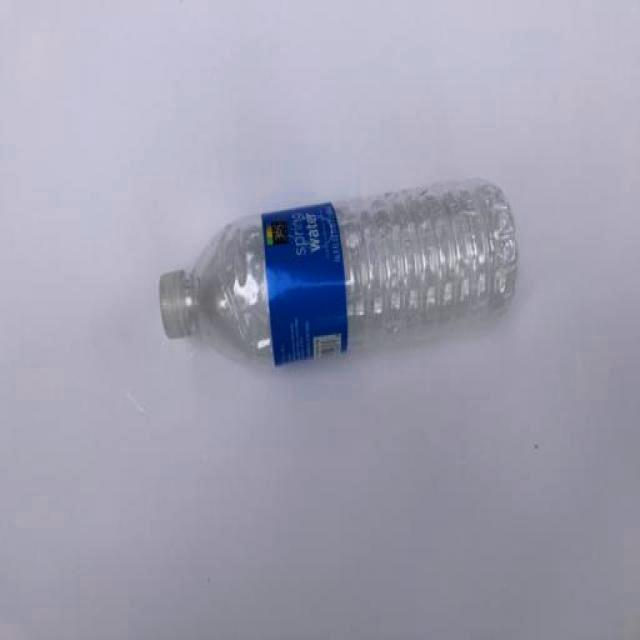bottle: (159, 177, 519, 365)
